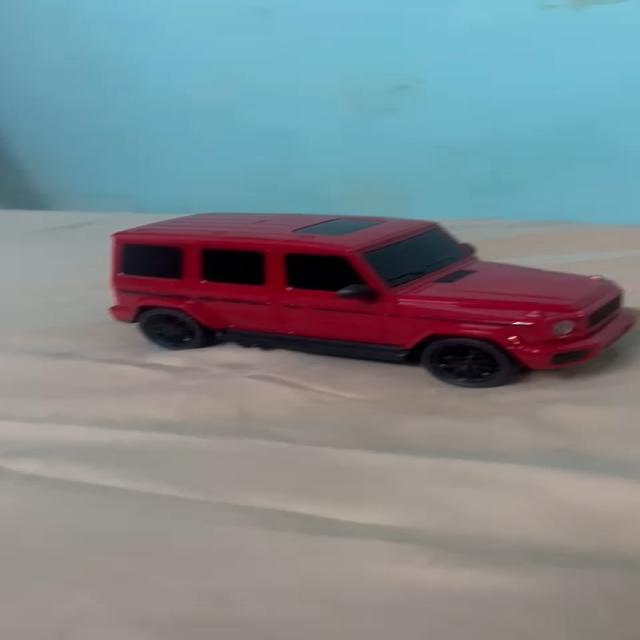light_vehicle: (96, 204, 623, 379)
